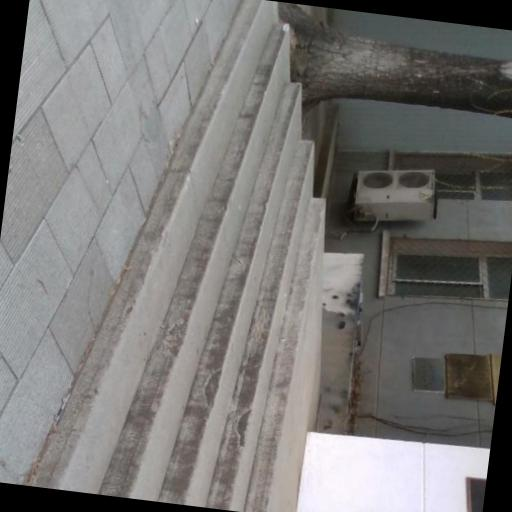stairs: (32, 0, 323, 511)
